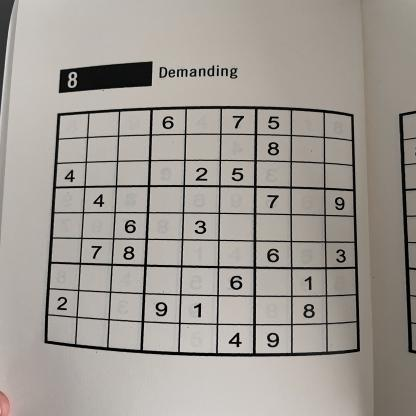sudoku: (40, 104, 366, 360)
